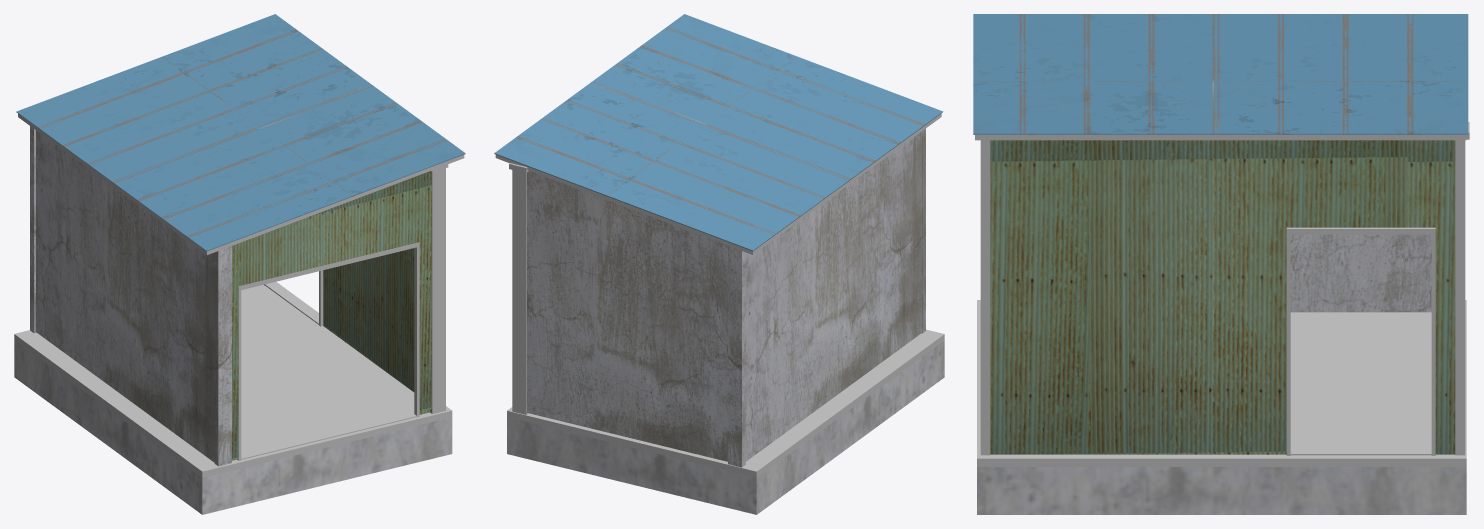
Rendered from JpHouse_Garage02ar.fbx.
The picture shows the model from 3 angles, left to right: view 1: azimuth 30°, elevation 25°; view 2: azimuth 150°, elevation 25°; view 3: azimuth 270°, elevation 25°; orthographic projection. The views are drawn at different scales.
Visible parts, largest first — view 1: JpHouse_Garage02ar; view 2: JpHouse_Garage02ar; view 3: JpHouse_Garage02ar.
Boxes of the visible parts, x1,y1,x2,y2 form: JpHouse_Garage02ar: (14,14,465,514); JpHouse_Garage02ar: (494,14,944,514); JpHouse_Garage02ar: (973,14,1469,514).
Size of the model in its own units: 3.91 by 4.26 by 4.93.
